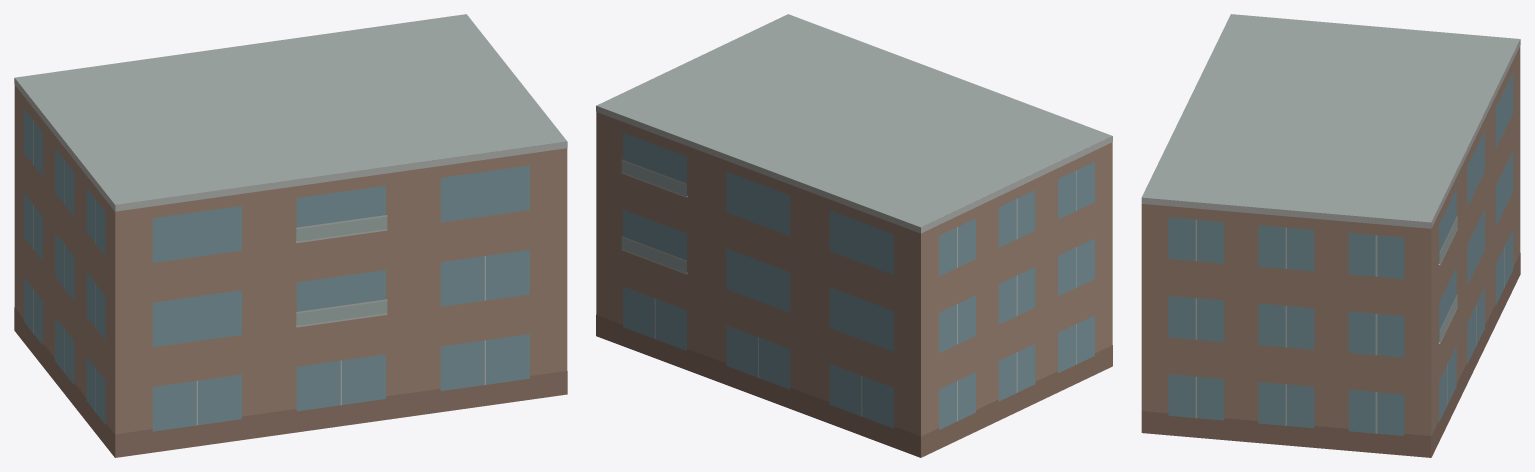
The model's file is survey-upis-32799884.glb.
3 renders of one model, left to right at view 1: azimuth 30°, elevation 25°; view 2: azimuth 150°, elevation 25°; view 3: azimuth 270°, elevation 25°, orthographic. The views are drawn at different scales.
Visible parts, largest first — view 1: survey-upis-32799884.tmp; view 2: survey-upis-32799884.tmp; view 3: survey-upis-32799884.tmp.
Part boxes in pixels (left/top/right/bottom): survey-upis-32799884.tmp: left=14, top=14, right=567, bottom=457; survey-upis-32799884.tmp: left=596, top=14, right=1112, bottom=457; survey-upis-32799884.tmp: left=1141, top=14, right=1520, bottom=457.
Bounding box in the file's own units: 17.4 × 9.15 × 13.36.
